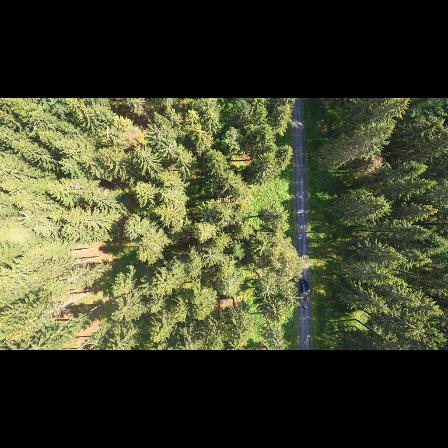Sick: (197, 245, 224, 270), (251, 235, 275, 262), (256, 280, 279, 304), (158, 136, 179, 160)
